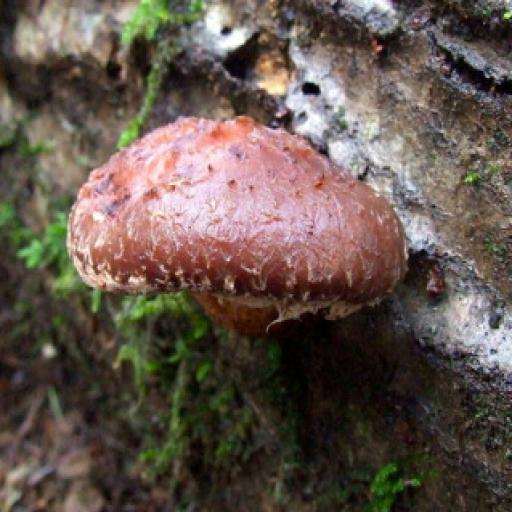Shiitake Mushroom: (69, 87, 421, 358)
